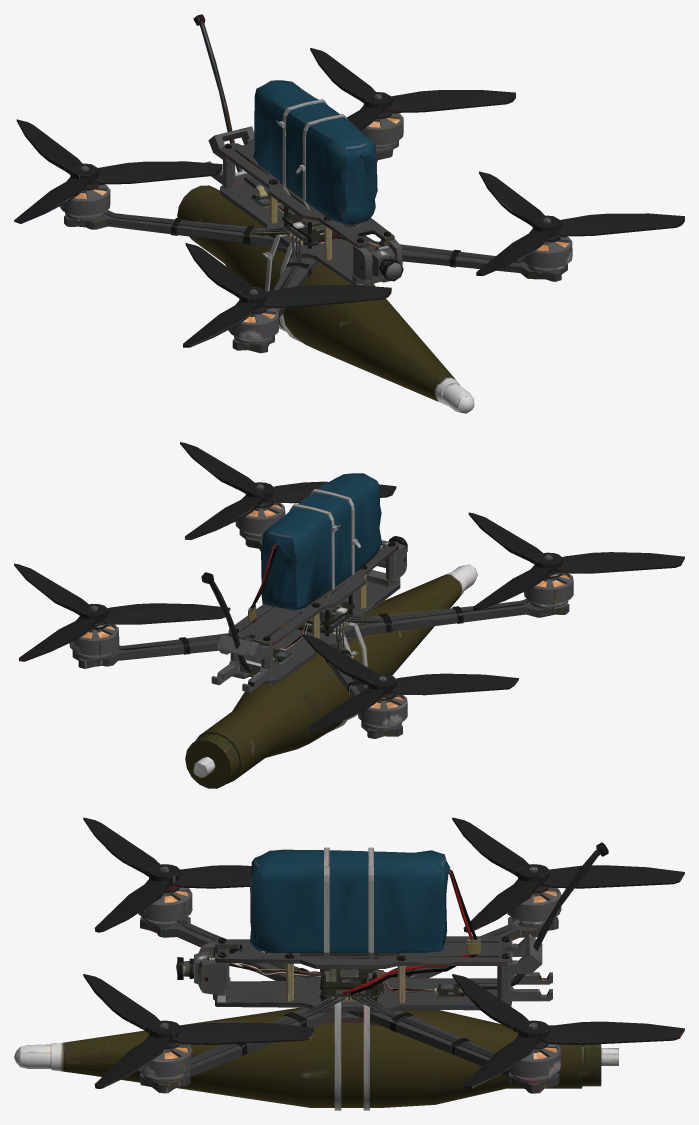
File: drone.glb
3 renders of one model, top to bottom at view 1: azimuth 30°, elevation 25°; view 2: azimuth 150°, elevation 25°; view 3: azimuth 270°, elevation 25°, orthographic. The views are drawn at different scales.
Bounding box in the file's own units: 0.3085 × 0.1398 × 0.3245.
Materials: 1 (1 with a texture image).
